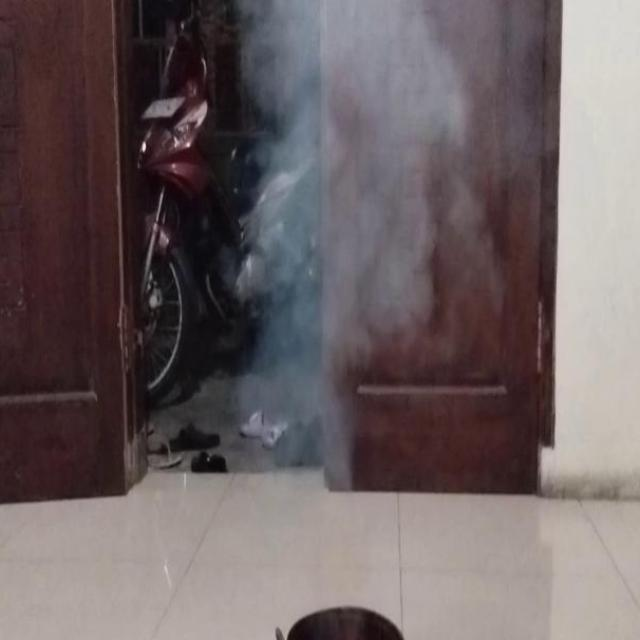fire: (243, 0, 450, 326), (238, 329, 378, 534)
